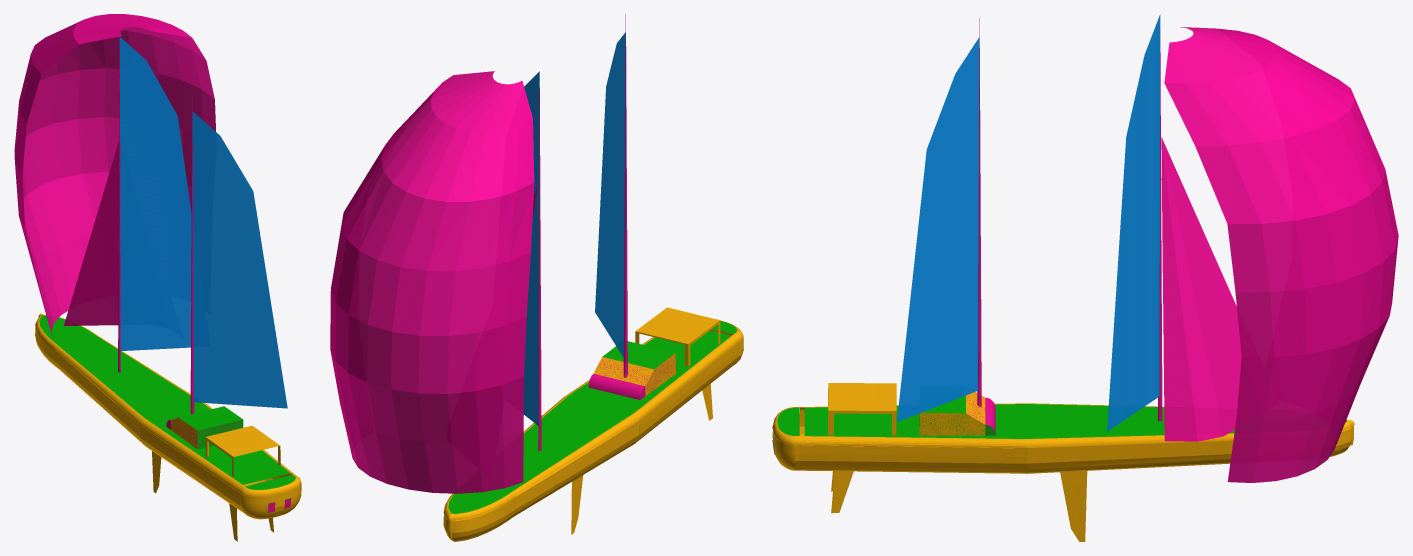
The model's file is TARA_SPI_BABORD.dae.
3 views of the same model, side by side, from view 1: azimuth 30°, elevation 25°; view 2: azimuth 150°, elevation 25°; view 3: azimuth 270°, elevation 25° (orthographic). The views are drawn at different scales.
Parts seen in each view (by area): view 1: SketchUp (×13); view 2: SketchUp (×12); view 3: SketchUp (×11).
Boxes of the visible parts, x1,y1,x2,y2 form: SketchUp (×13): (14,14,301,519); SketchUp (×12): (330,14,743,541); SketchUp (×11): (773,14,1398,541).
Bounding box in the file's own units: 66886 × 174538 × 161797.
